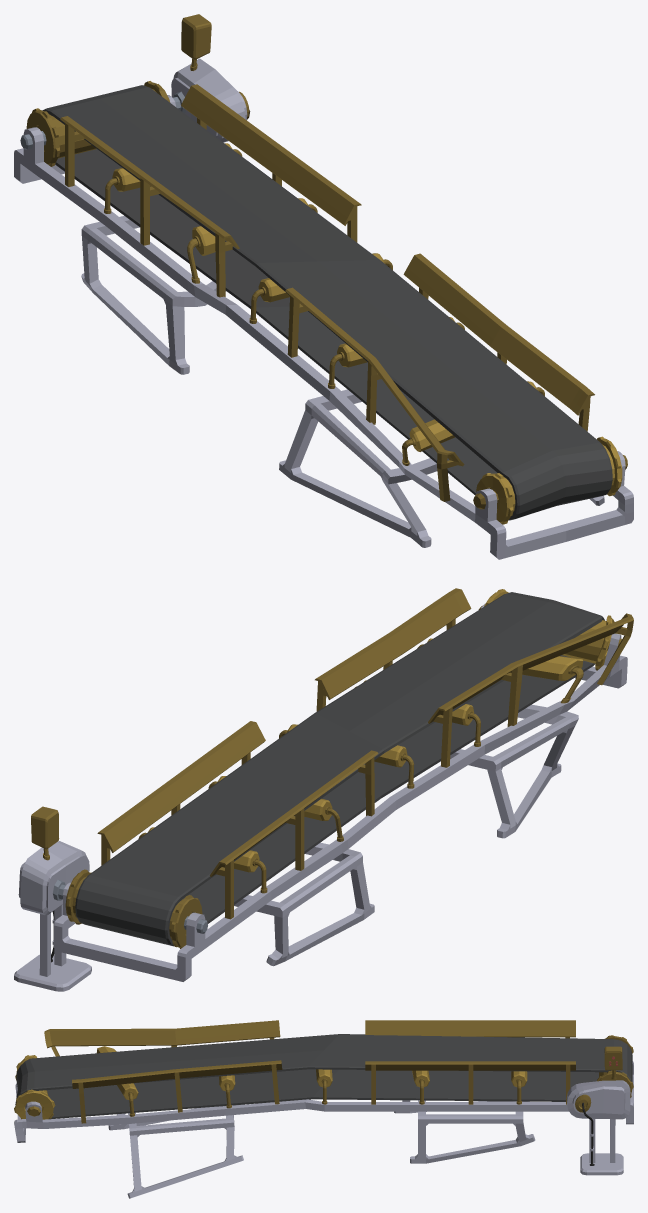
The model's file is Cube_007_factory-conveyer_001.fbx.
3 renders of one model, top to bottom at view 1: azimuth 30°, elevation 25°; view 2: azimuth 150°, elevation 25°; view 3: azimuth 270°, elevation 25°, orthographic. The views are drawn at different scales.
Parts seen in each view (by area): view 1: Cube.007.factory-conveyer.001; view 2: Cube.007.factory-conveyer.001; view 3: Cube.007.factory-conveyer.001.
Boxes of the visible parts, x1=… form: Cube.007.factory-conveyer.001: x1=14, y1=14, x2=633, y2=559; Cube.007.factory-conveyer.001: x1=14, y1=588, x2=633, y2=991; Cube.007.factory-conveyer.001: x1=14, y1=1020, x2=633, y2=1198.
Size of the model in its own units: 1.84 by 1.6 by 6.38.
